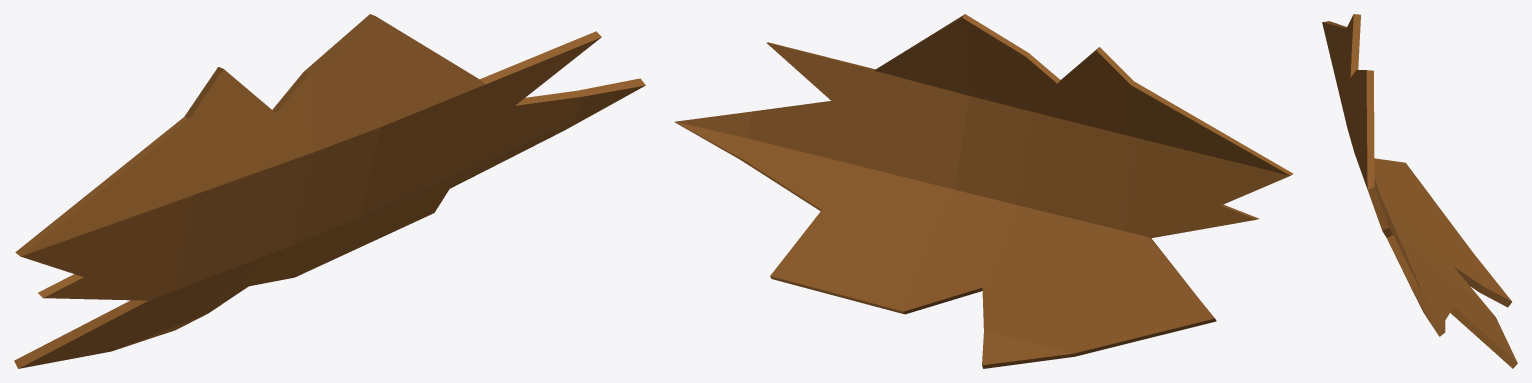
The model's file is Debree 3.fbx.
3 renders of one model, left to right at view 1: azimuth 30°, elevation 25°; view 2: azimuth 150°, elevation 25°; view 3: azimuth 270°, elevation 25°, orthographic. The views are drawn at different scales.
Parts seen in each view (by area): view 1: Cube.006; view 2: Cube.006; view 3: Cube.006.
Boxes of the visible parts, x1,y1,x2,y2 form: Cube.006: [14, 14, 645, 368]; Cube.006: [674, 14, 1293, 368]; Cube.006: [1322, 14, 1517, 368].
Bounding box in the file's own units: 43.09 × 20.7 × 13.08.
